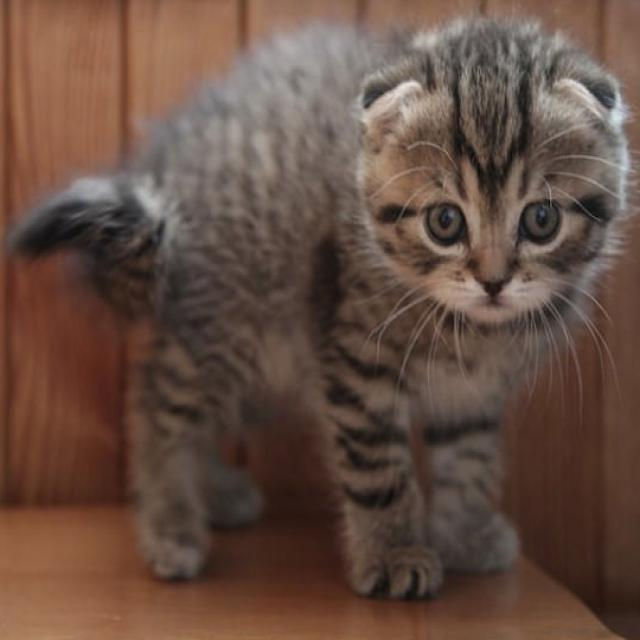Scottish Fold: (6, 7, 634, 607)
